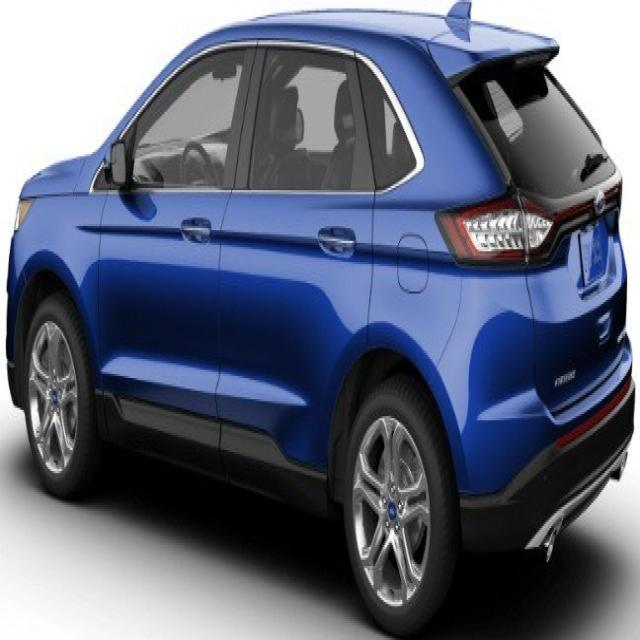blue: (0, 10, 638, 622)
